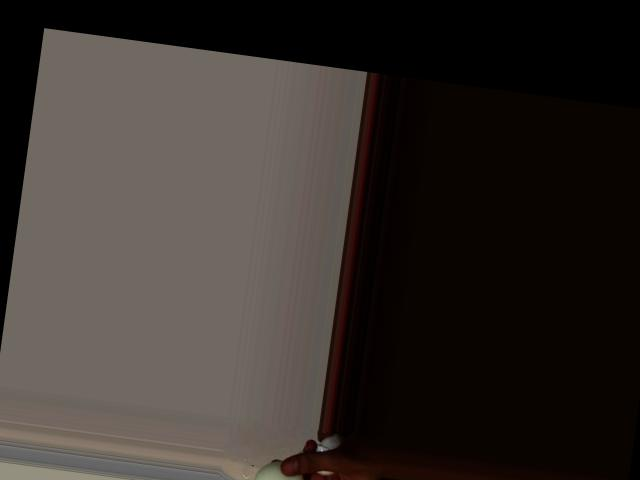egg: (253, 457, 305, 480)
